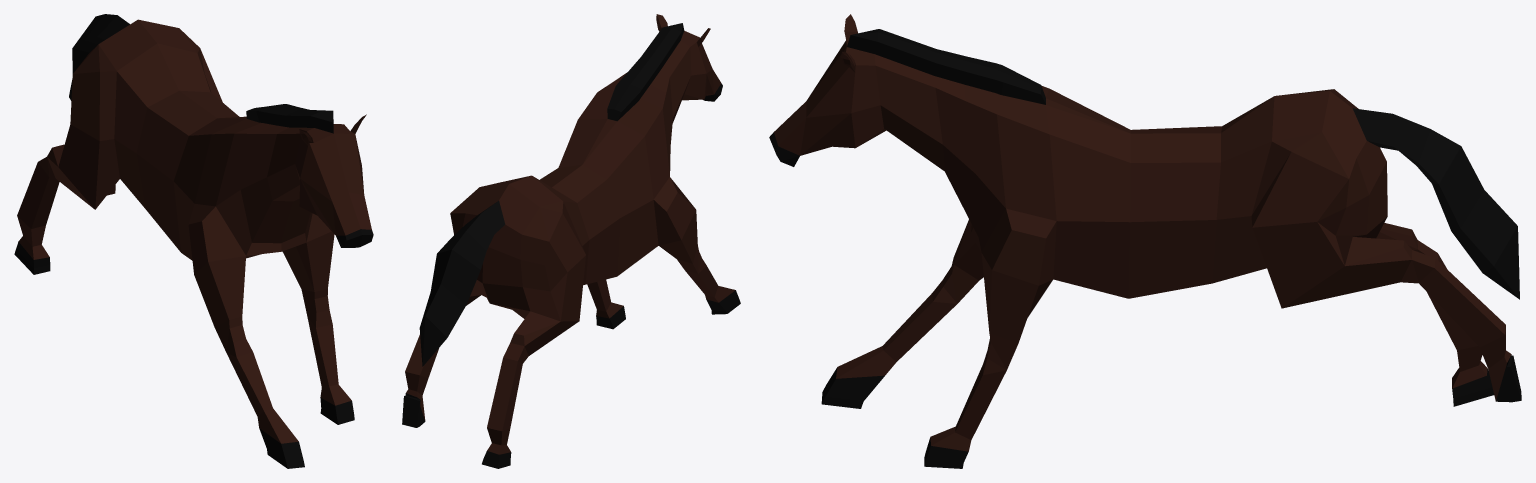
The model's file is Horse_000014.obj.
3 renders of one model, left to right at view 1: azimuth 30°, elevation 25°; view 2: azimuth 150°, elevation 25°; view 3: azimuth 270°, elevation 25°, orthographic. The views are drawn at different scales.
Visible parts, largest first — view 1: Horse_Cylinder; view 2: Horse_Cylinder; view 3: Horse_Cylinder.
Part boxes in pixels (x1,y1,x2,y2): Horse_Cylinder: [14, 14, 373, 468]; Horse_Cylinder: [402, 14, 740, 468]; Horse_Cylinder: [769, 14, 1521, 468].
Bounding box in the file's own units: 2.7 × 6.07 × 10.23.
